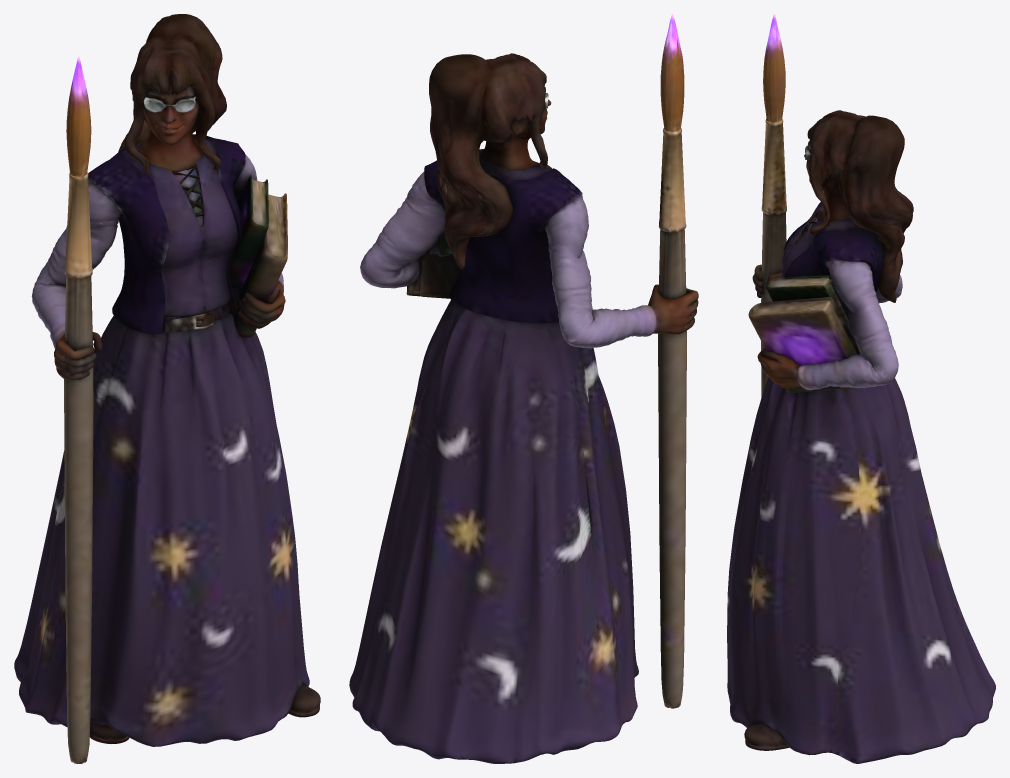
Rendered from MZ4250 - Wizard Female with Giant Paintbrush_2 2025.glb.
3 views of the same model, side by side, from view 1: azimuth 30°, elevation 25°; view 2: azimuth 150°, elevation 25°; view 3: azimuth 270°, elevation 25° (orthographic). The views are drawn at different scales.
Visible parts, largest first — view 1: Base.001; view 2: Base.001; view 3: Base.001.
Part boxes in pixels (x1,y1,x2,y2): Base.001: (14,14,320,763); Base.001: (349,14,698,763); Base.001: (727,14,995,763).
Bounding box in the file's own units: 41.89 × 98.82 × 37.78.
2 materials, 2 textured.
